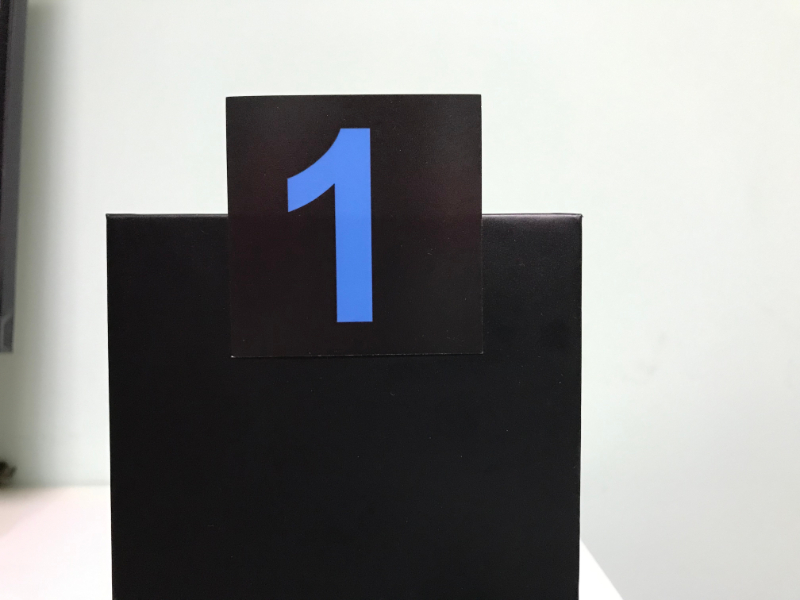One-6: (234, 101, 477, 351)
